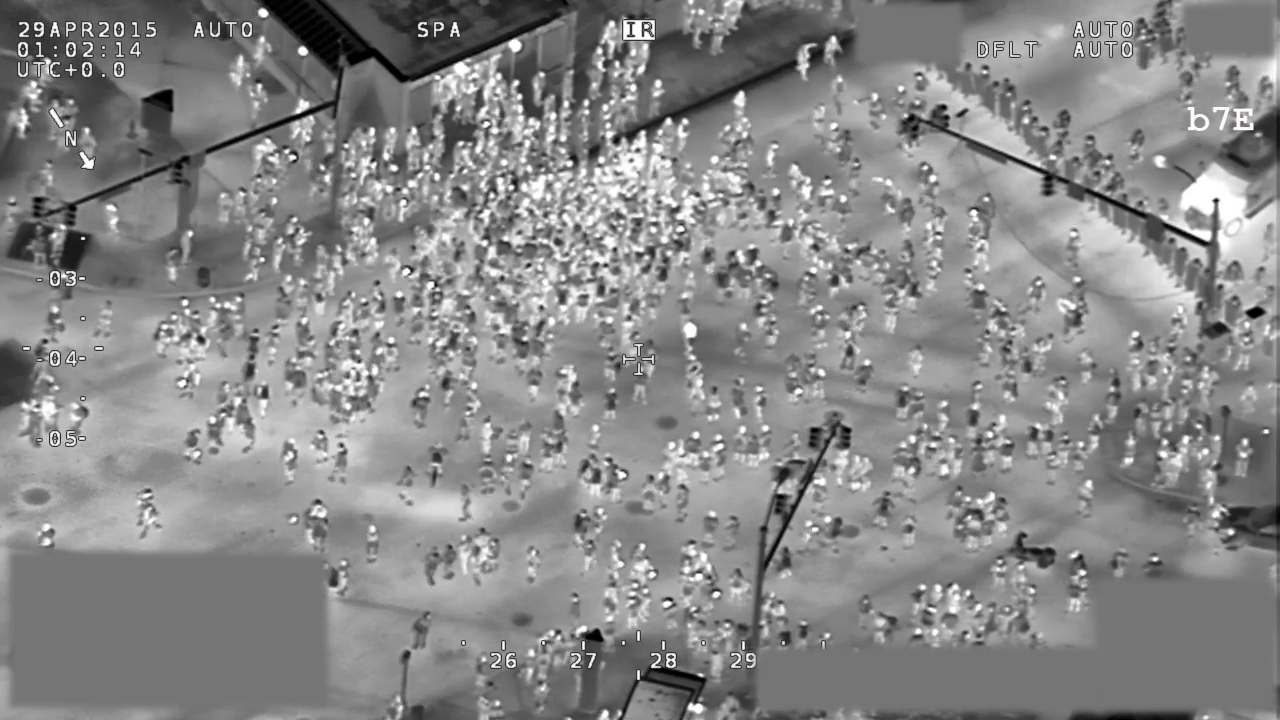vehicle: (1179, 103, 1280, 239)
